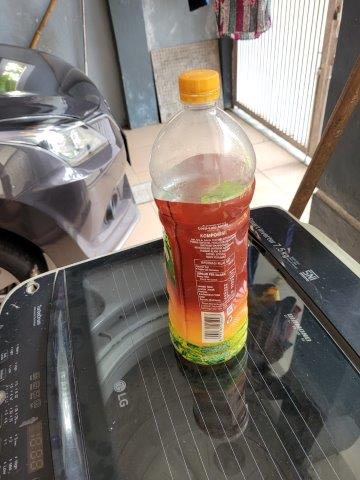botolplastik: (149, 70, 256, 363)
